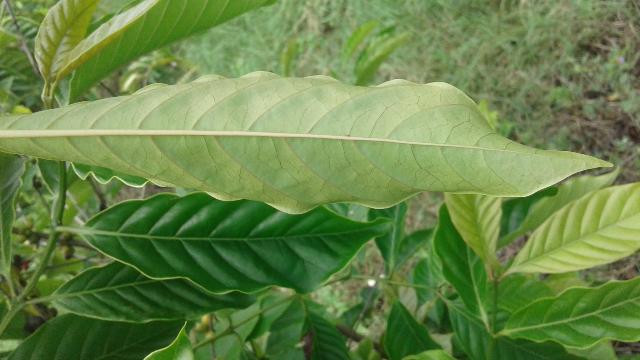healthy: (0, 68, 622, 216)
